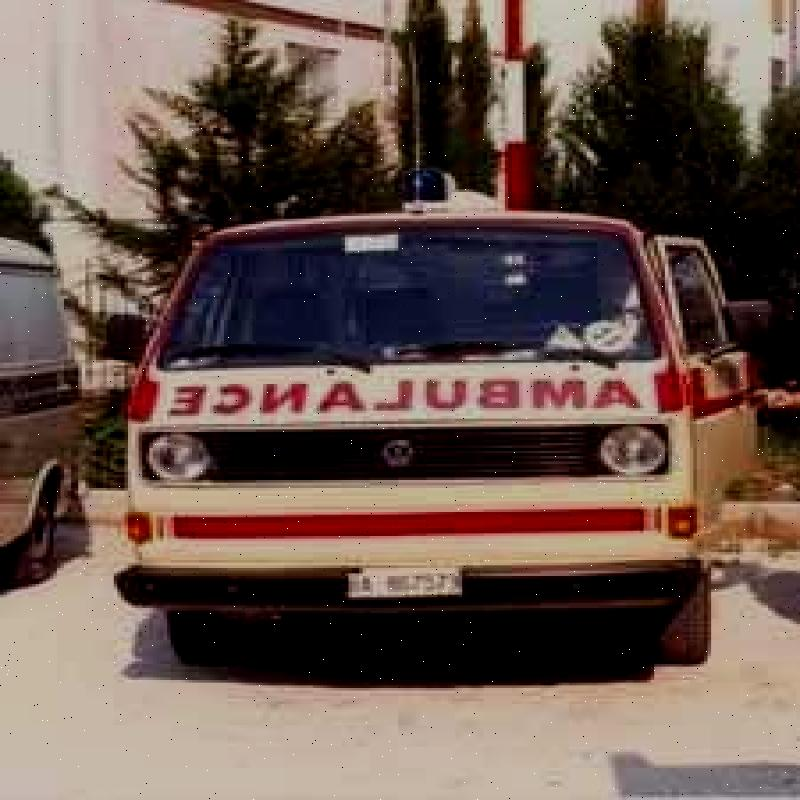AmbulanceSiren: (387, 150, 455, 205)
